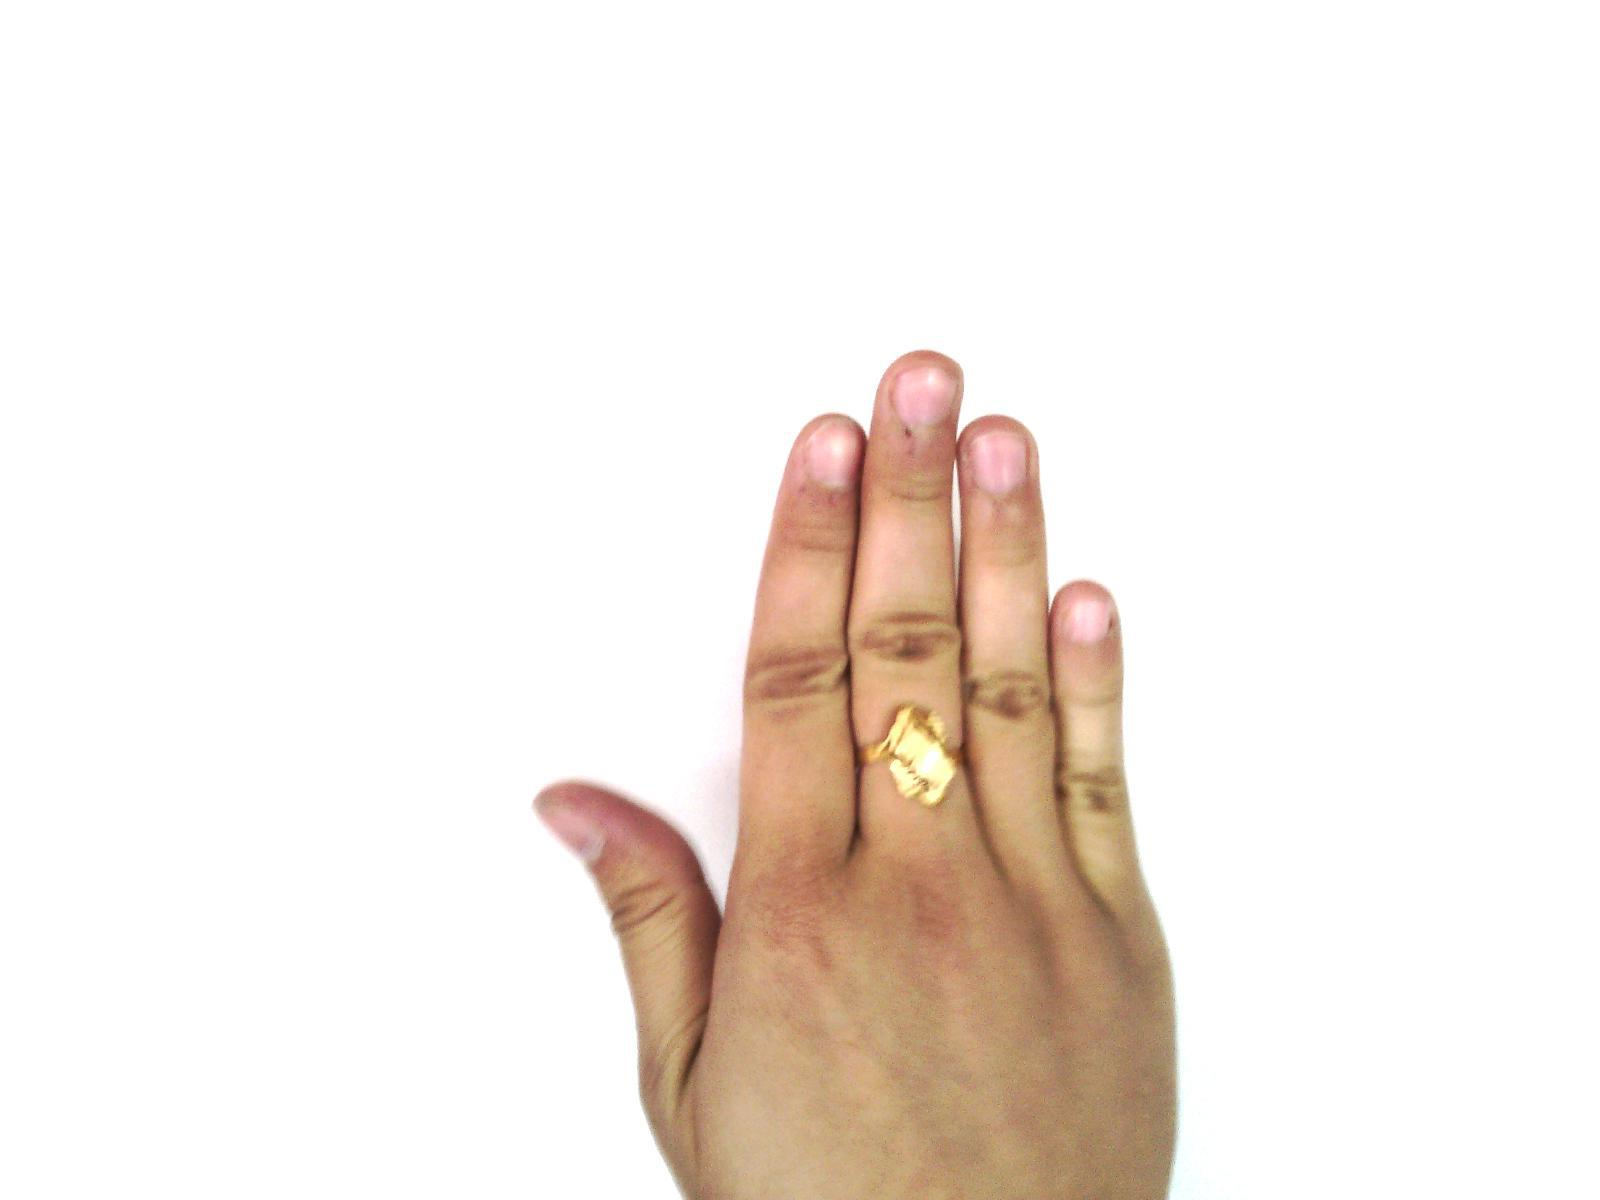hand: (537, 348, 1191, 1200)
